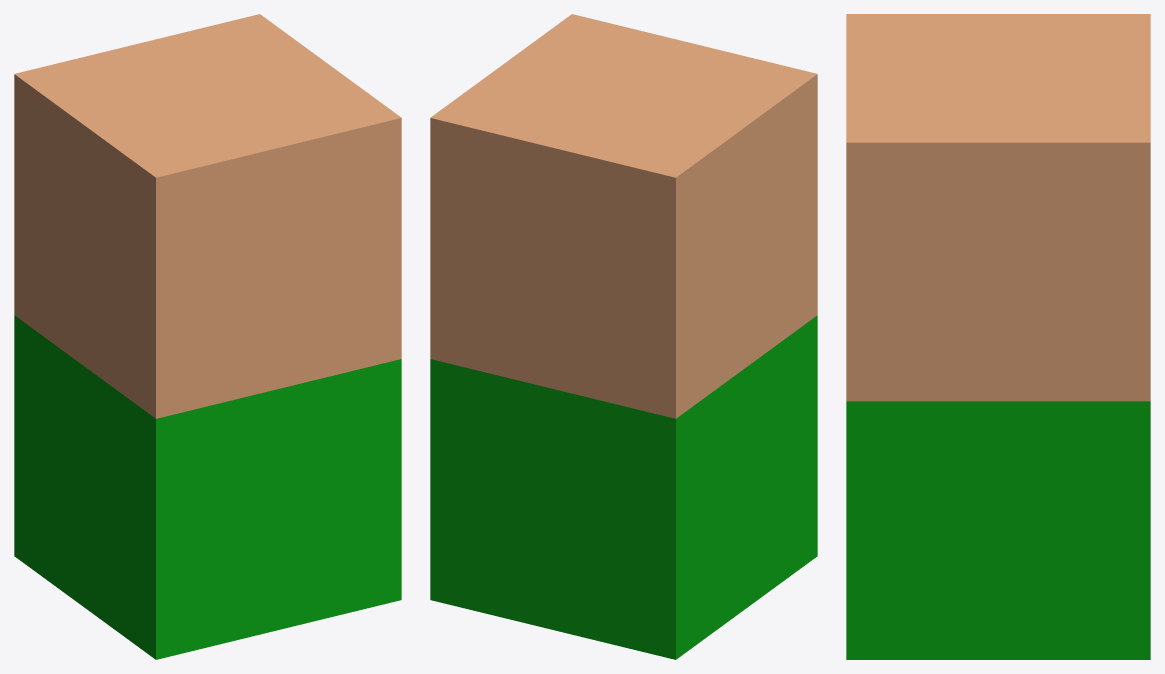
Rendered from Protesters.obj.
3 views of the same model, side by side, from view 1: azimuth 30°, elevation 25°; view 2: azimuth 150°, elevation 25°; view 3: azimuth 270°, elevation 25° (orthographic). The views are drawn at different scales.
Visible parts, largest first — view 1: Body; view 2: Body; view 3: Body.
Part boxes in pixels (<box>): Body: <box>14,14,401,659</box>; Body: <box>430,14,817,659</box>; Body: <box>846,14,1150,659</box>.
Size of the model in its own units: 1 by 1.88 by 1.
Materials: 1 (1 with a texture image).
